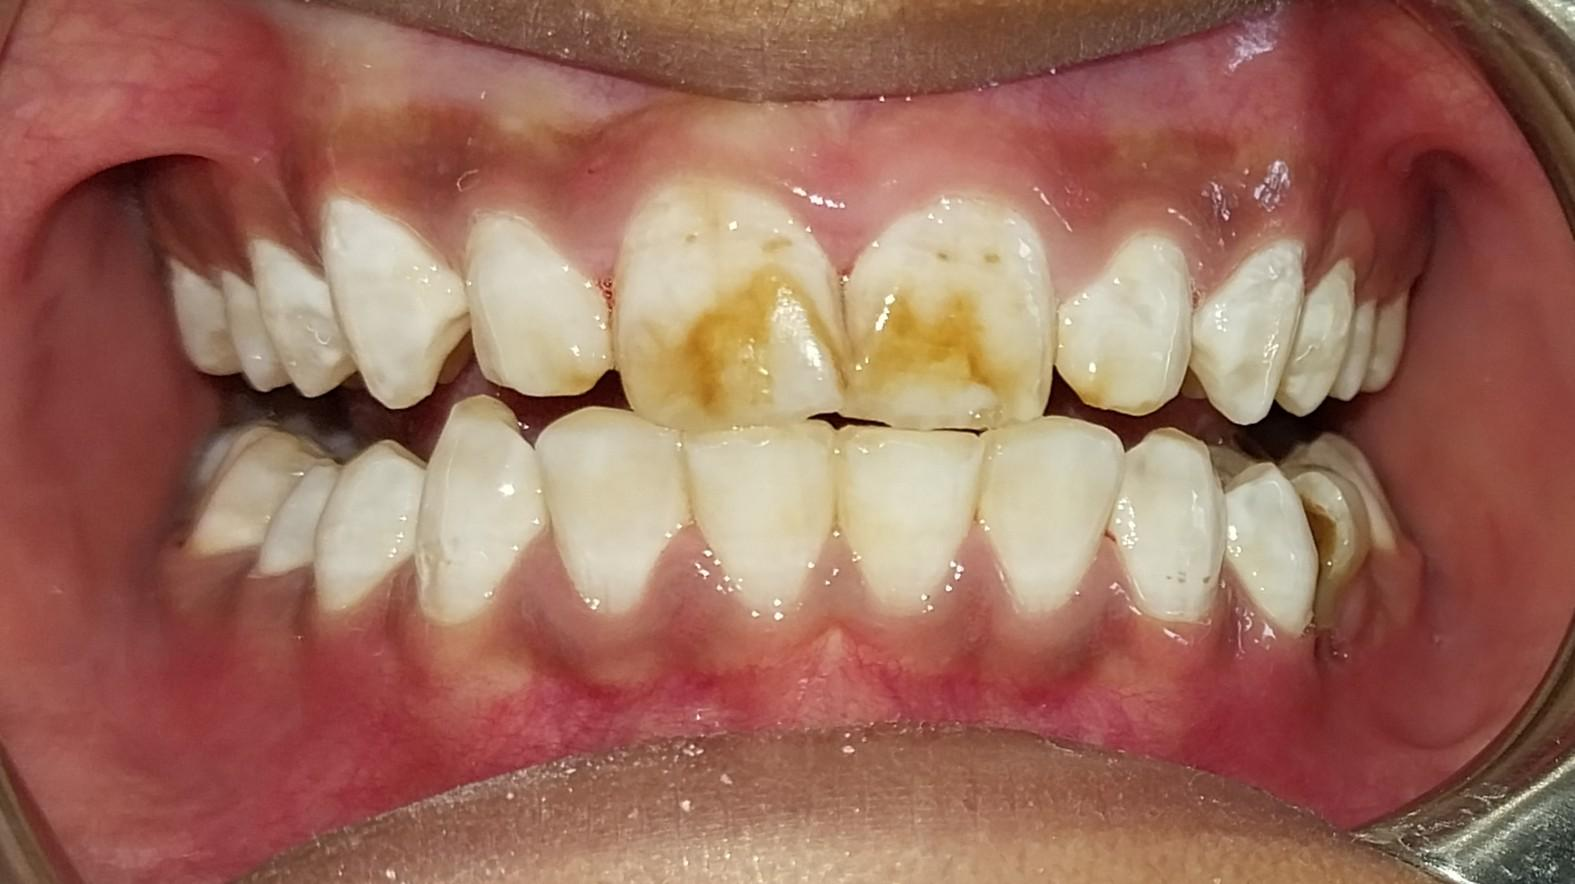d: (1299, 483, 1355, 602)
